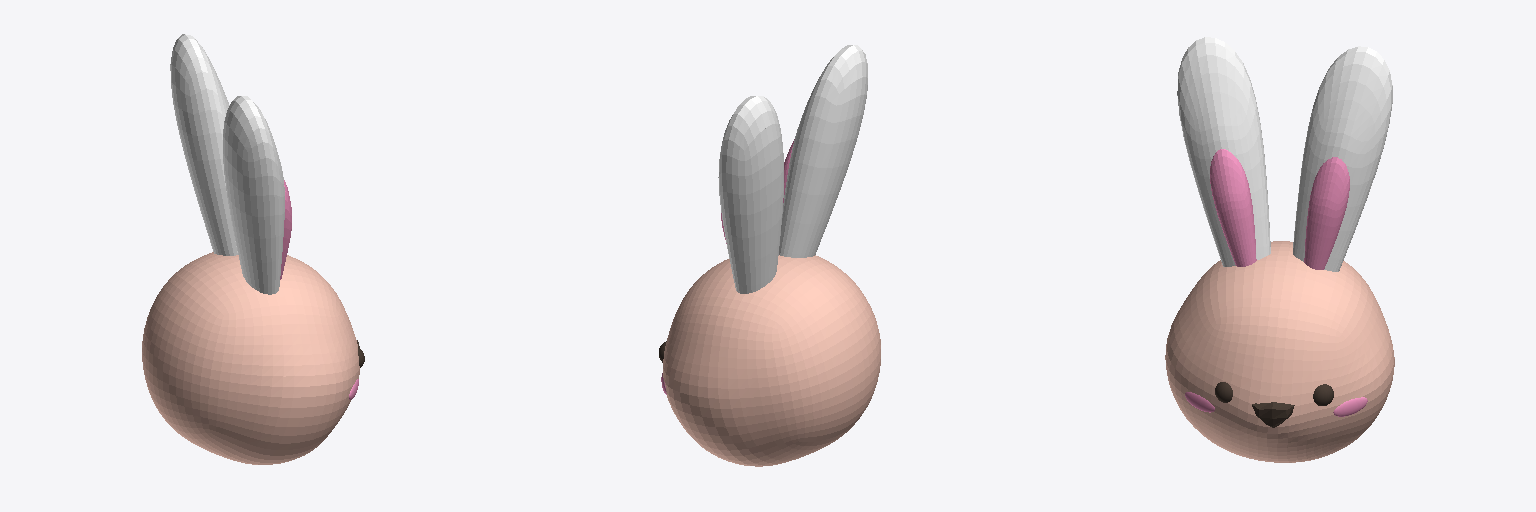
The picture shows the model from 3 angles: view 1: azimuth 30°, elevation 25°; view 2: azimuth 150°, elevation 25°; view 3: azimuth 270°, elevation 25°; orthographic projection.
Parts seen in each view (by area): view 1: NOSE.001, pCube3.001, pasted__pCube3.001; view 2: NOSE.001, pCube3.001, pasted__pCube3.001; view 3: NOSE.001, pCube3.001, pasted__pCube3.001, pasted__pCube4.001, pasted__pasted__pCube4.001.
Part boxes in pixels (bbox=[...]): NOSE.001: bbox=[142, 252, 364, 464]; pCube3.001: bbox=[223, 96, 284, 294]; pasted__pCube3.001: bbox=[170, 34, 237, 255]; NOSE.001: bbox=[659, 255, 880, 466]; pCube3.001: bbox=[779, 45, 867, 257]; pasted__pCube3.001: bbox=[718, 96, 783, 293]; NOSE.001: bbox=[1165, 241, 1394, 462]; pCube3.001: bbox=[1177, 37, 1270, 266]; pasted__pCube3.001: bbox=[1293, 46, 1392, 271]; pasted__pCube4.001: bbox=[1210, 149, 1256, 266]; pasted__pasted__pCube4.001: bbox=[1304, 157, 1349, 269].
Bounding box in the file's own units: 1.56 × 2.99 × 1.58.
3 materials, 3 textured.